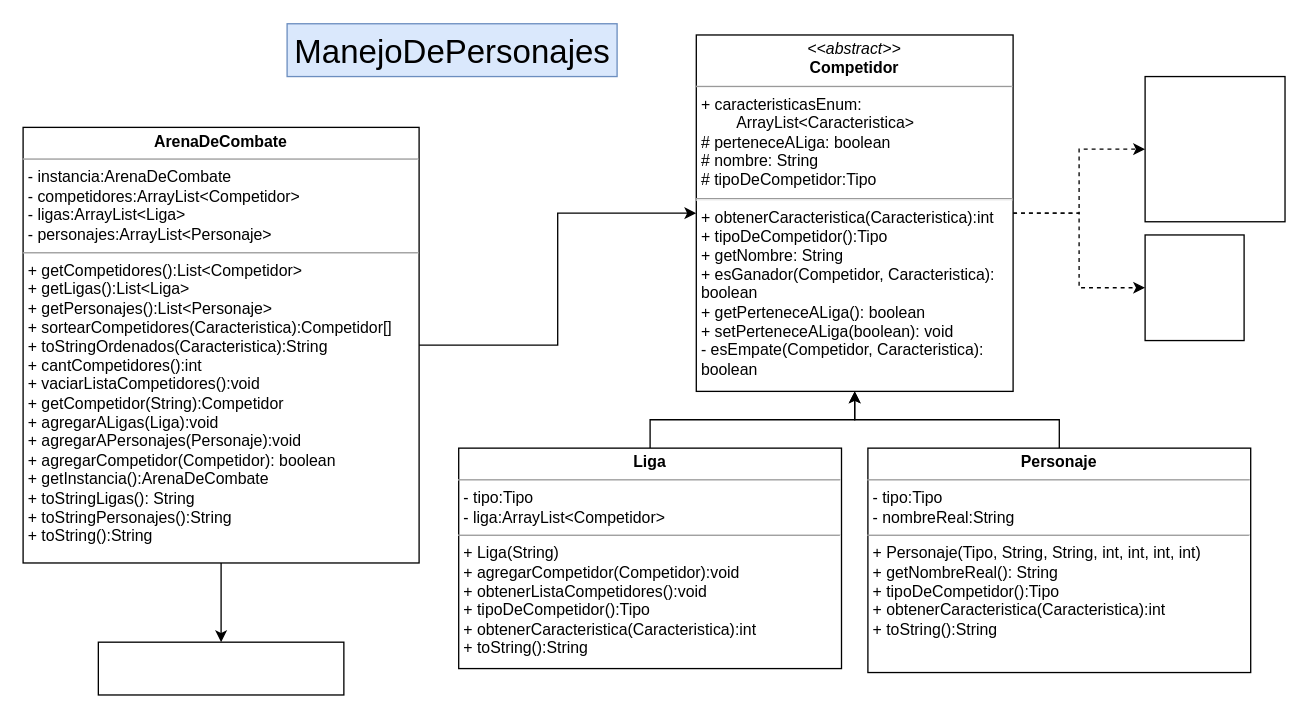
Some shapes in this 1308 by 718 pixel diagram are drawn without their labels. The box of each missing label's shape, as (x1, y1, x2, y2) in pixels:
<<Enum>> Caracteristica VELOCIDAD FUERZA RESISTENCIA DESTREZA: (1144, 75, 1285, 222)
<<Enum>> Tipo HEROE VILLANO: (1144, 234, 1244, 341)
CompetidorRepetidoException: (97, 641, 344, 695)
